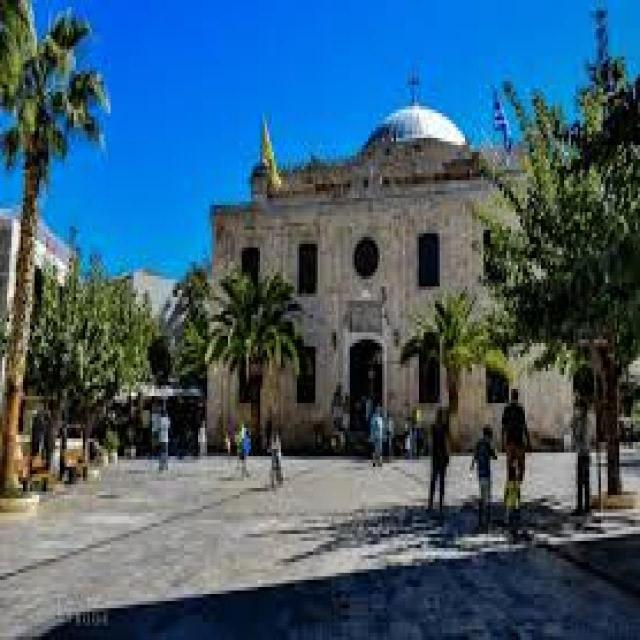Agios Titos: (212, 106, 568, 441)
